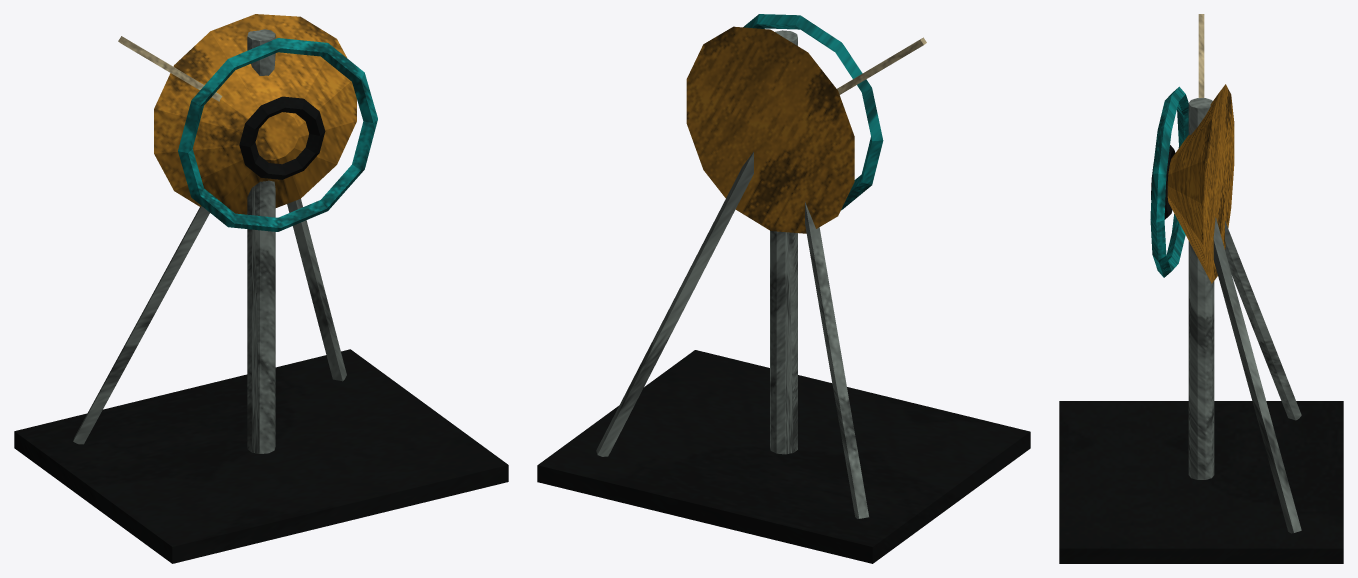
The model's file is west-rim-solar-witness.glb.
3 views of the same model, side by side, from view 1: azimuth 30°, elevation 25°; view 2: azimuth 150°, elevation 25°; view 3: azimuth 270°, elevation 25° (orthographic). The views are drawn at different scales.
Parts seen in each view (by area): view 1: west-rim-solar-witness; view 2: west-rim-solar-witness; view 3: west-rim-solar-witness.
Boxes of the visible parts, x1,y1,x2,y2 form: west-rim-solar-witness: (14,14,508,563); west-rim-solar-witness: (537,14,1030,563); west-rim-solar-witness: (1059,14,1343,563).
Bounding box in the file's own units: 5.4 × 7.09 × 4.4.
1 material, 1 textured.
